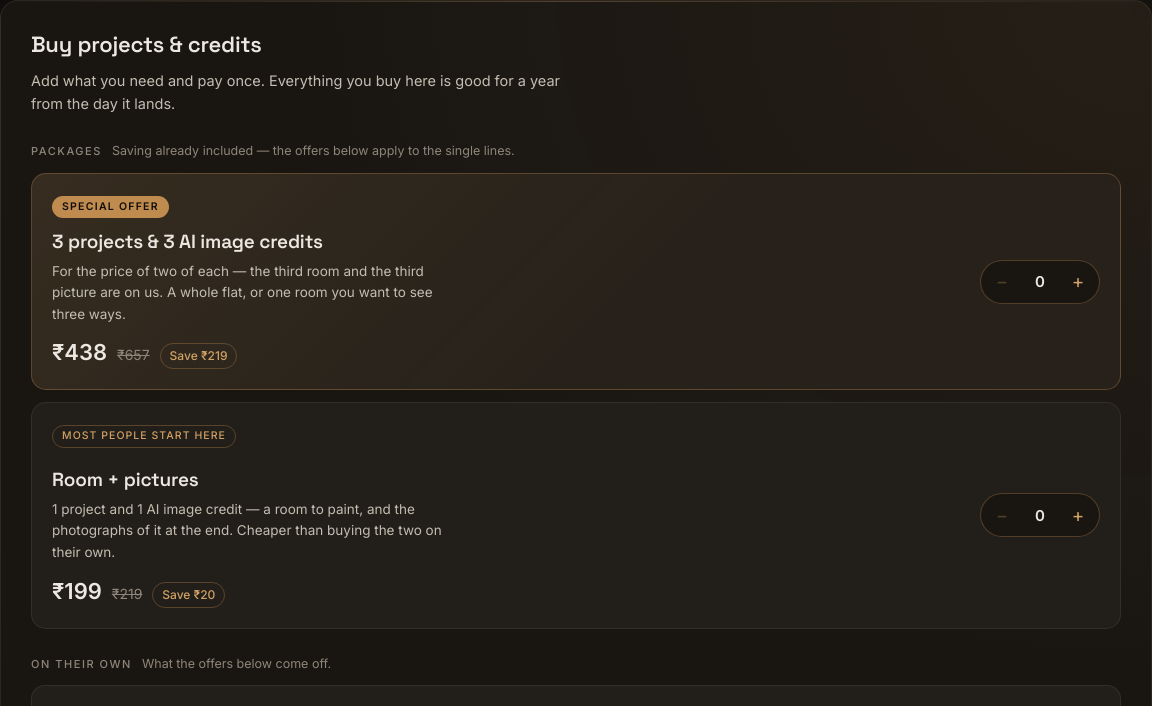
Test: CreditsCart › does not dangle an offer a basket of packages alone can never collect
Step 1. Click the button named "One more Room + pictures" → (1078, 515), box [1057, 494, 1099, 536]
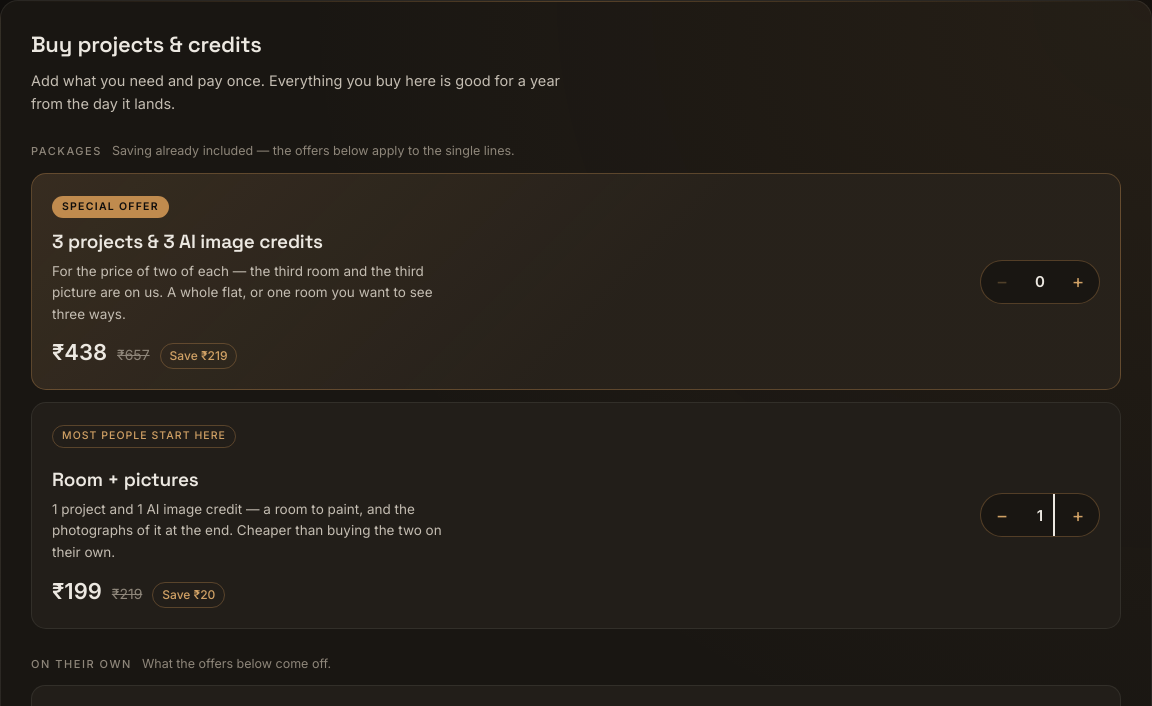
Step 2. Click the button named "One more Room + pictures" → (1078, 515), box [1057, 494, 1099, 536]
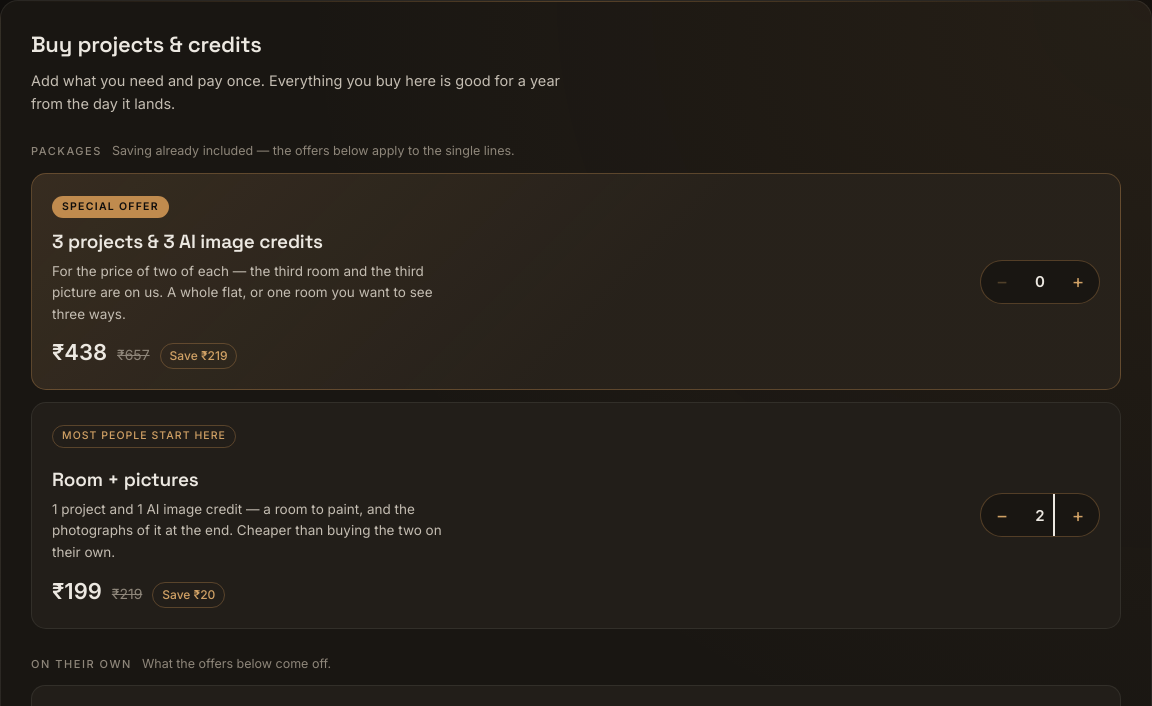
Step 3. Click the button named "One more Room + pictures" → (1078, 515), box [1057, 494, 1099, 536]
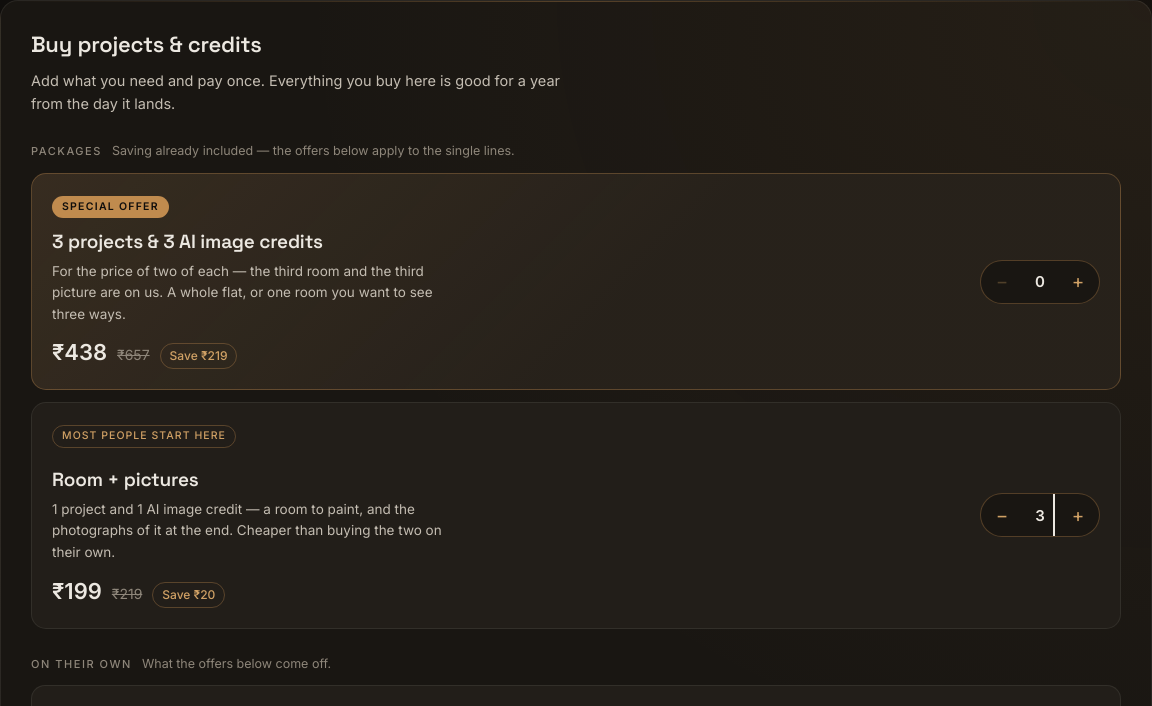
Step 4. Click the button named "One more Room + pictures" → (1078, 515), box [1057, 494, 1099, 536]
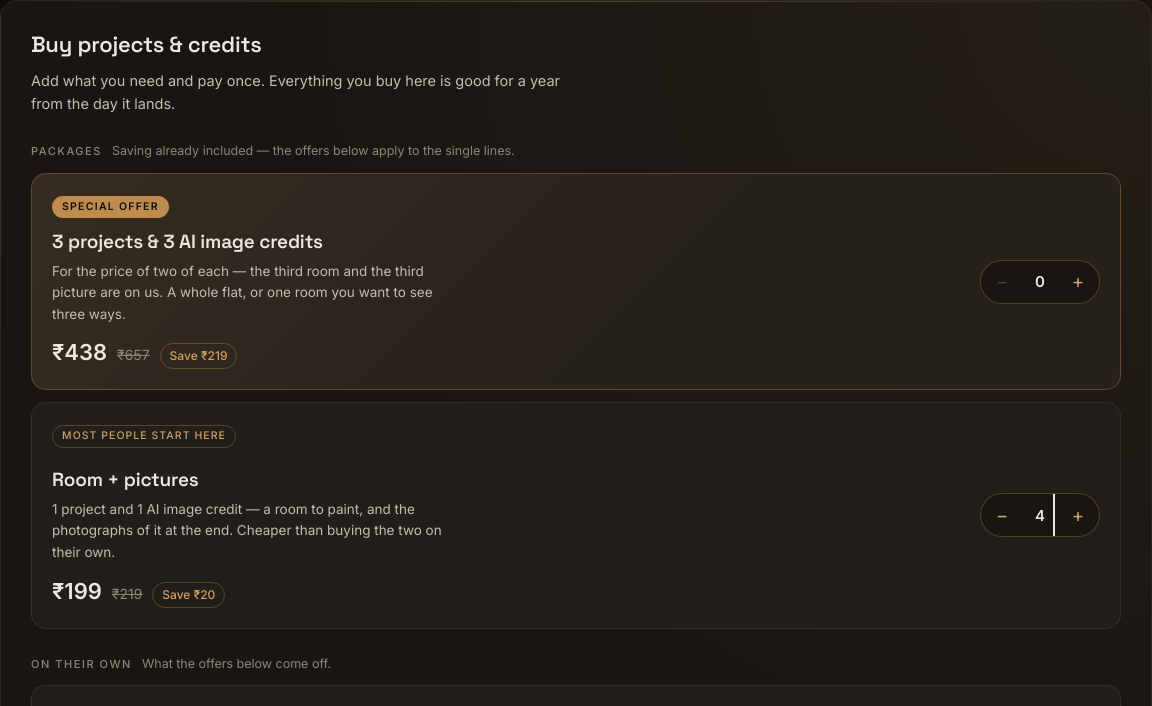
Step 5. Click the button named "One more Room + pictures" → (1078, 515), box [1057, 494, 1099, 536]
(page scrolled)
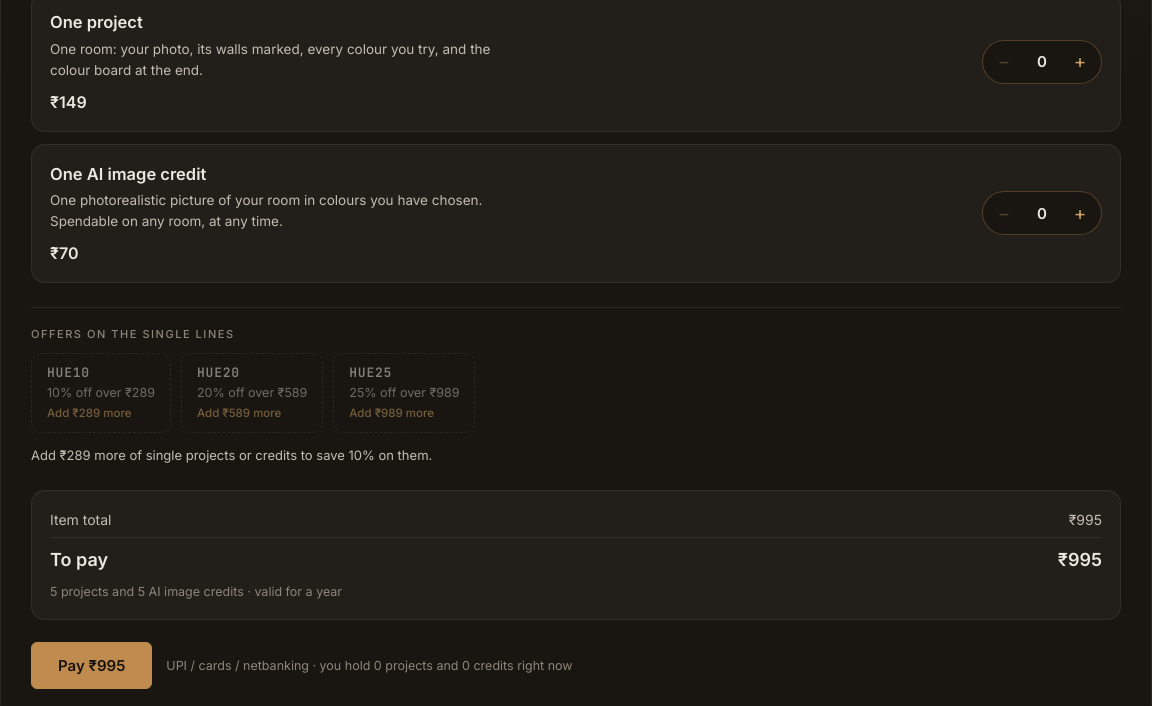
Check: the button "HUE25 25% off over ₹989 Add ₹989 more" is disabled, box [333, 353, 476, 433]
Check: the button "Pay ₹995" is shown, box [31, 642, 152, 689]
